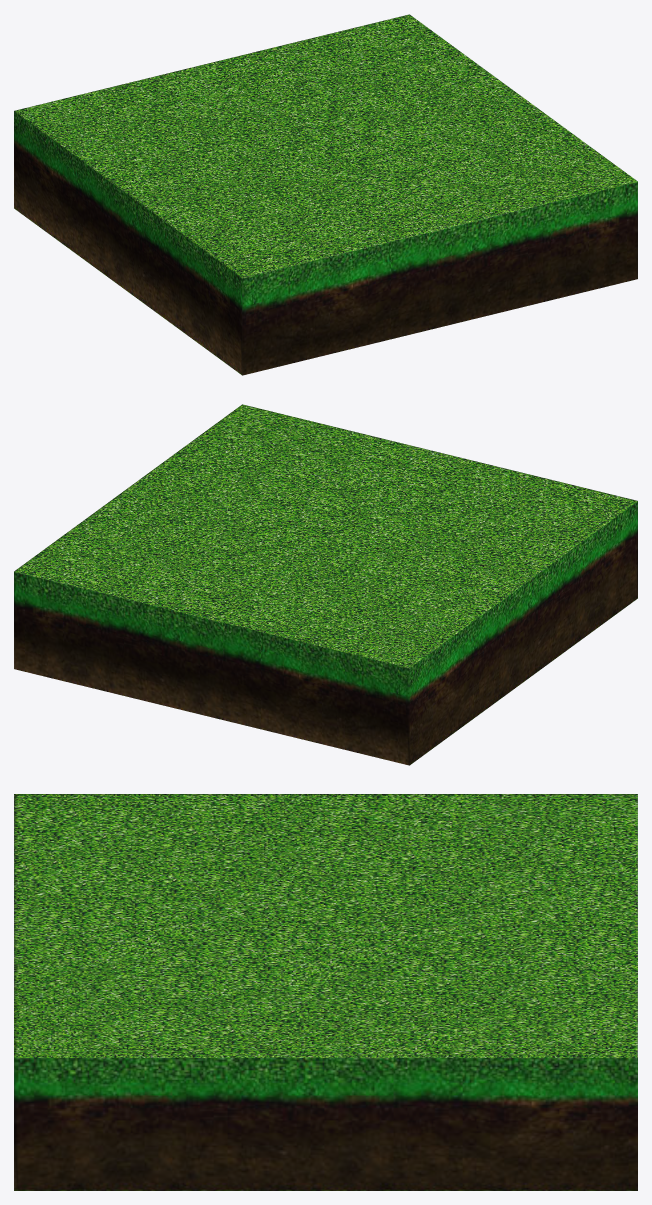
The model's file is grass square.fbx.
3 renders of one model, top to bottom at view 1: azimuth 30°, elevation 25°; view 2: azimuth 150°, elevation 25°; view 3: azimuth 270°, elevation 25°, orthographic. The views are drawn at different scales.
Parts seen in each view (by area): view 1: grass square 1; view 2: grass square 1; view 3: grass square 1.
Boxes of the visible parts, bbox=[...] form: grass square 1: bbox=[14, 14, 637, 375]; grass square 1: bbox=[14, 404, 637, 765]; grass square 1: bbox=[14, 794, 637, 1190].
Bounding box in the file's own units: 390 × 91.83 × 390.
